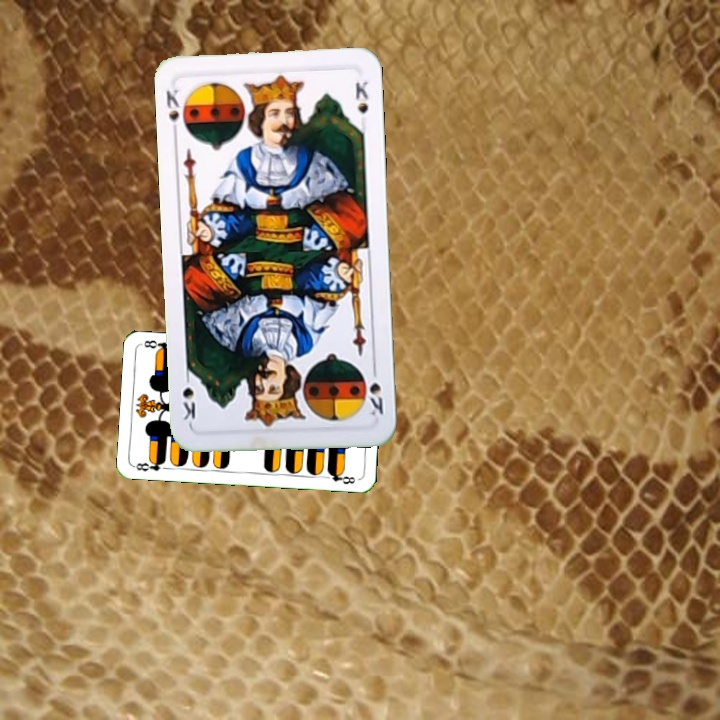E8: (131, 456, 168, 474)
SK: (360, 361, 386, 418), (161, 85, 182, 139)
